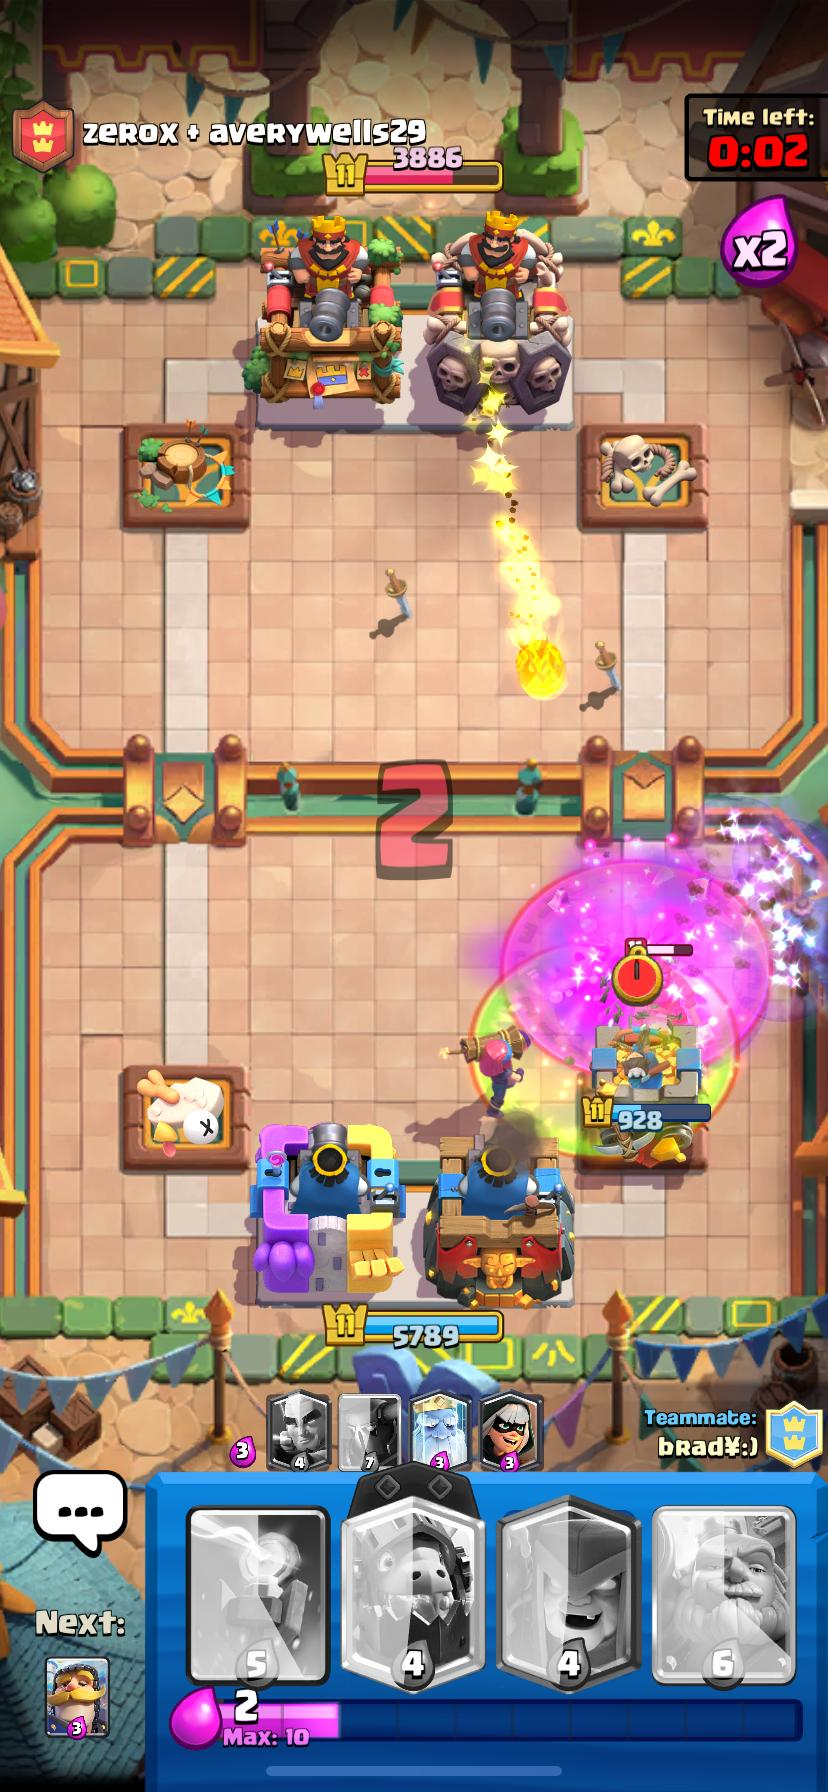EKingTower: (424, 211, 570, 431), (258, 216, 403, 405)
OEVFirecrack: (460, 1024, 526, 1115)
OwnKingTower: (252, 1123, 405, 1301), (424, 1139, 573, 1307)
OwnPrincessTower: (580, 1025, 711, 1166)
TowerDown: (121, 1065, 248, 1171), (124, 423, 250, 528), (580, 423, 706, 528)
